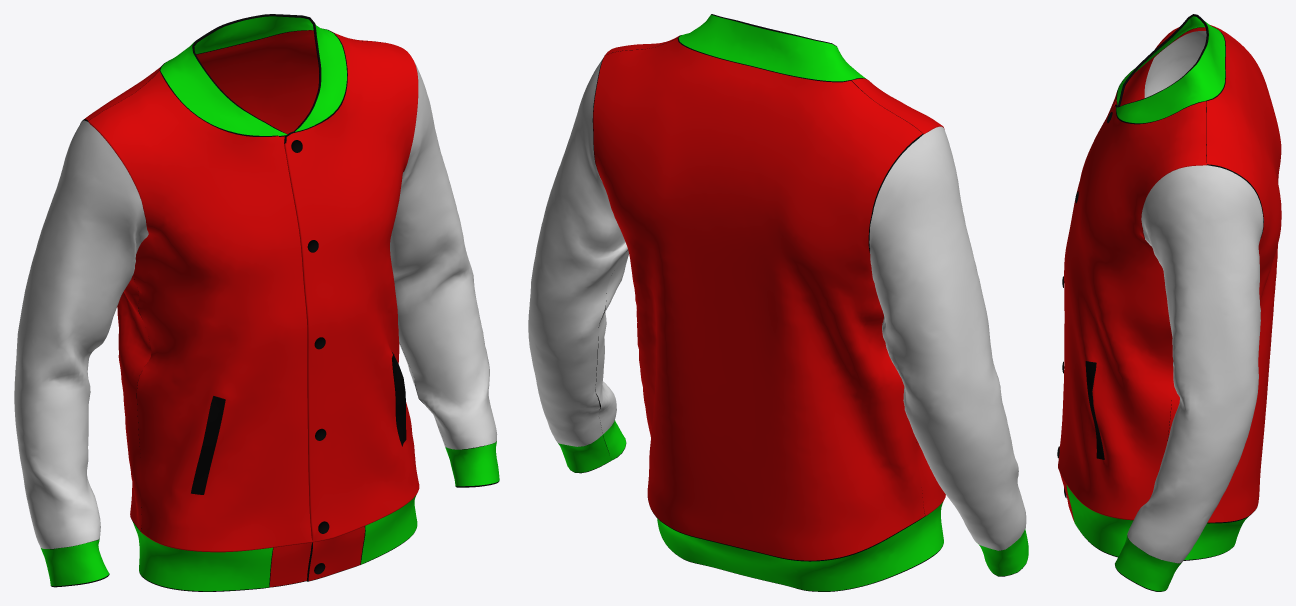
File: versity_jacket_GEO.fbx
The picture shows the model from 3 angles, left to right: view 1: azimuth 30°, elevation 25°; view 2: azimuth 150°, elevation 25°; view 3: azimuth 270°, elevation 25°; orthographic projection. The views are drawn at different scales.
Visible parts, largest first — view 1: versity_jacket_GEO; view 2: versity_jacket_GEO; view 3: versity_jacket_GEO.
Boxes of the visible parts, x1,y1,x2,y2 form: versity_jacket_GEO: (14, 14, 499, 591); versity_jacket_GEO: (528, 14, 1028, 591); versity_jacket_GEO: (1057, 14, 1281, 591).
Bounding box in the file's own units: 673 × 735 × 308.
